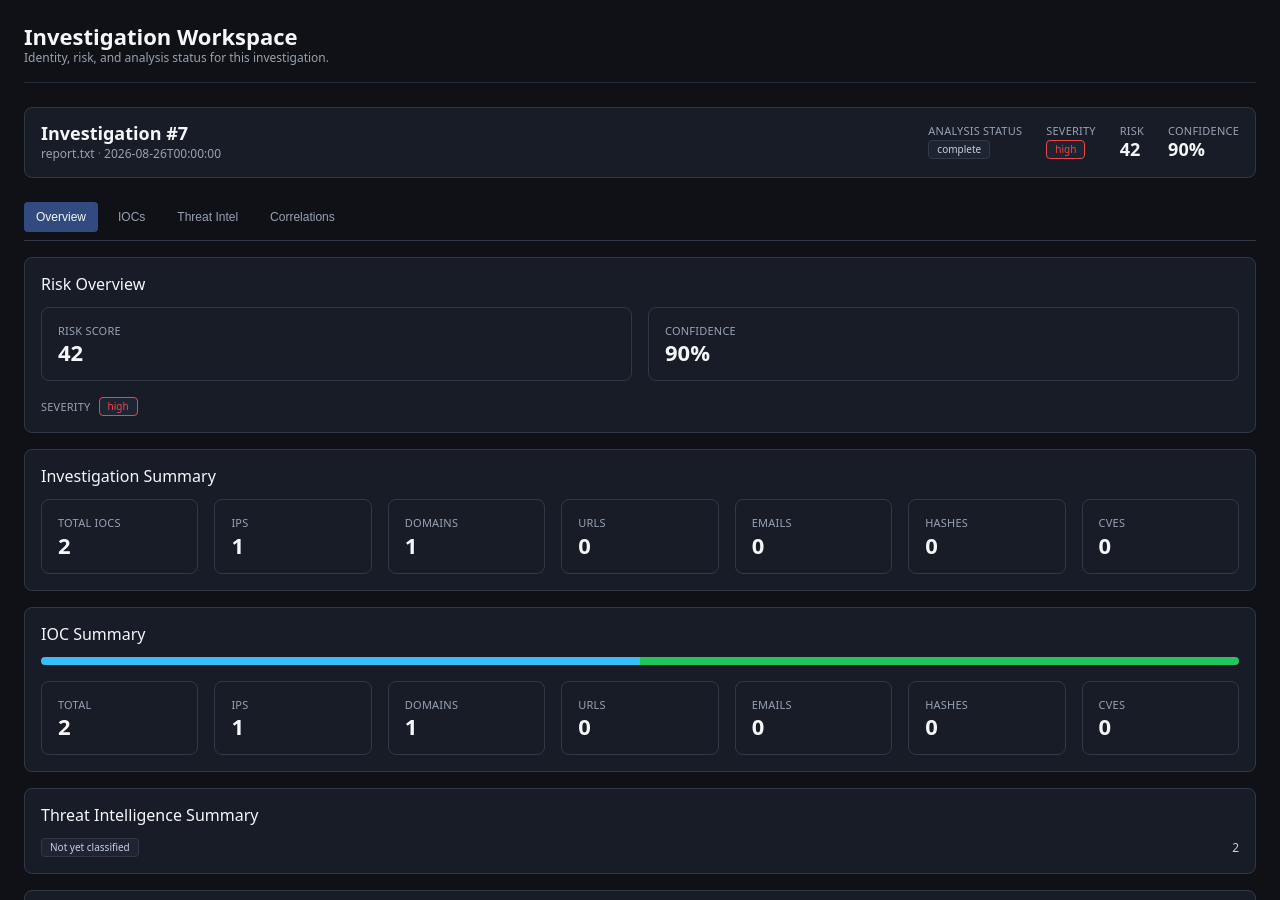
Test case: InvestigationWorkspacePage › IOCs tab (Part 2A) › selects the IOCs tab and renders the real IOC workspace, replacing the Overview content
Click the tab "IOCs": (132, 217) left=106, top=202, right=157, bottom=232
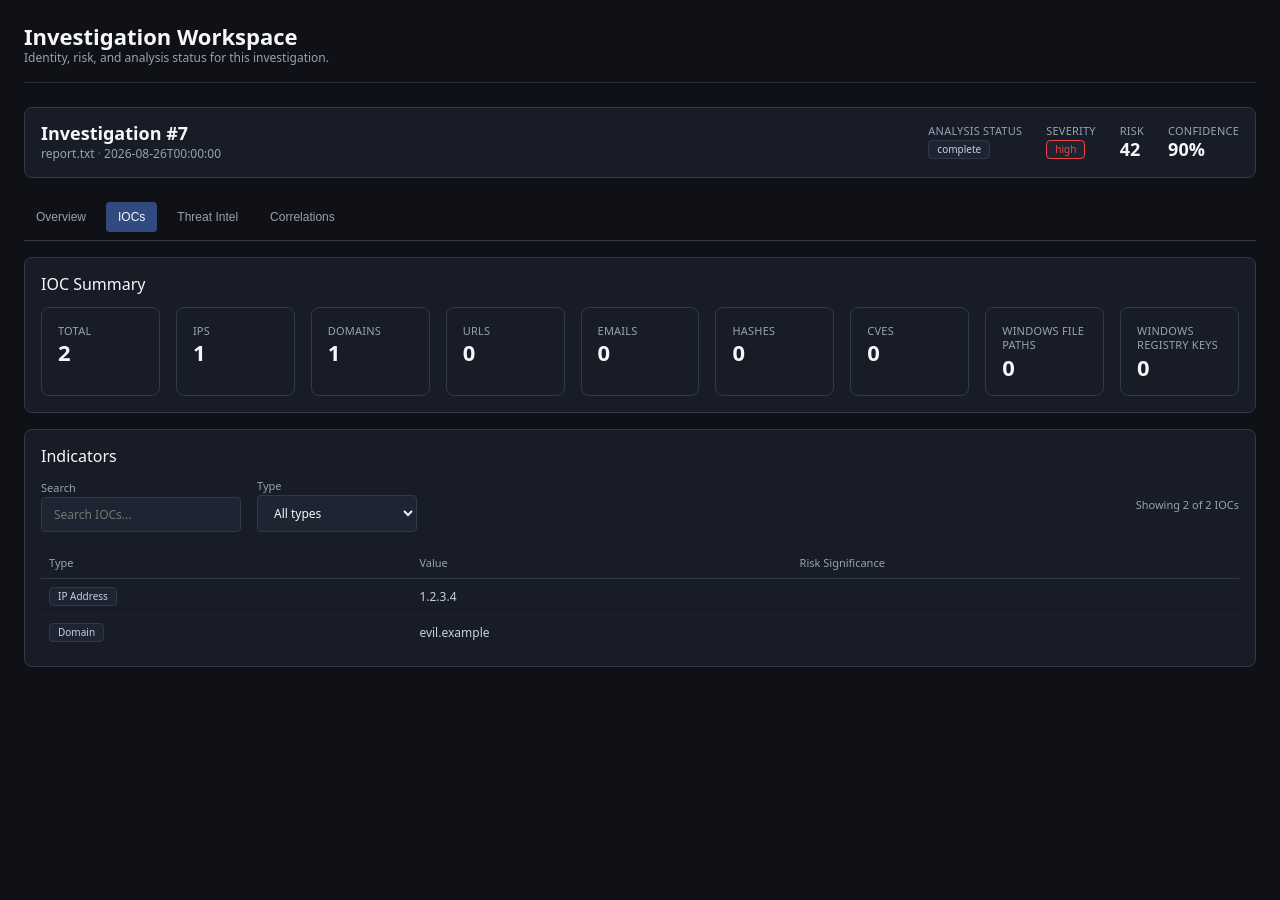
Check: the element with class "investigation-ioc-workspace" is shown, box left=24, top=257, right=1256, bottom=667
Check: the element with class "investigation-overview-risk" is gone
Check: the element with class "investigation-ioc-workspace" shows "1.2.3.4", box left=419, top=588, right=456, bottom=605
